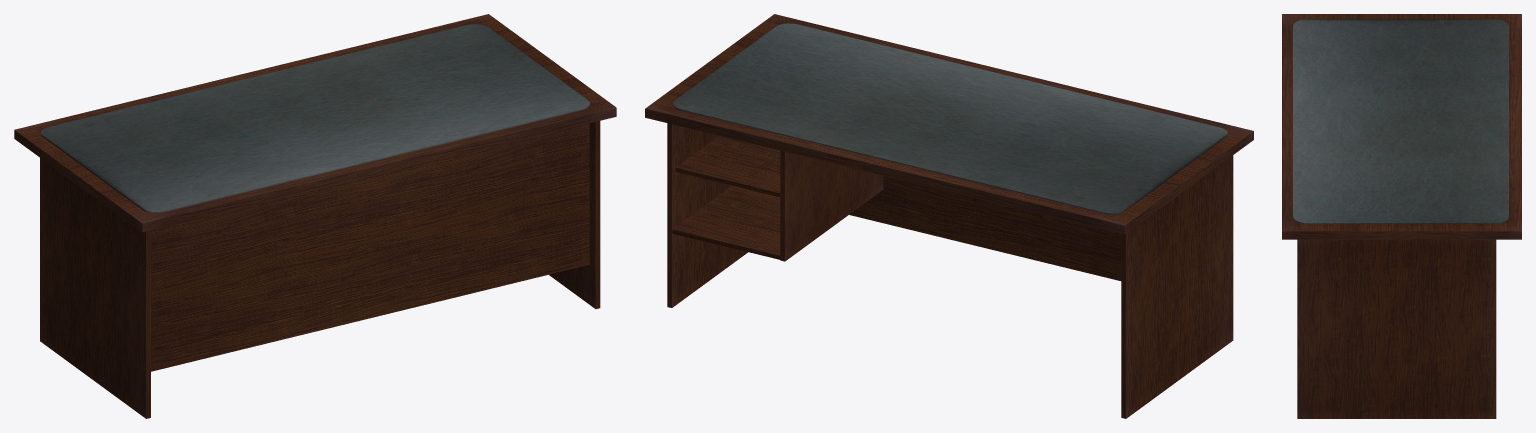
Rendered from Table.FBX.
3 renders of one model, left to right at view 1: azimuth 30°, elevation 25°; view 2: azimuth 150°, elevation 25°; view 3: azimuth 270°, elevation 25°, orthographic. The views are drawn at different scales.
Parts seen in each view (by area): view 1: Table; view 2: Table; view 3: Table.
Part boxes in pixels (x1,y1,x2,y2): Table: (14, 14, 616, 418); Table: (645, 14, 1253, 418); Table: (1282, 14, 1521, 418).
Size of the model in its own units: 202 by 83.68 by 94.4.
